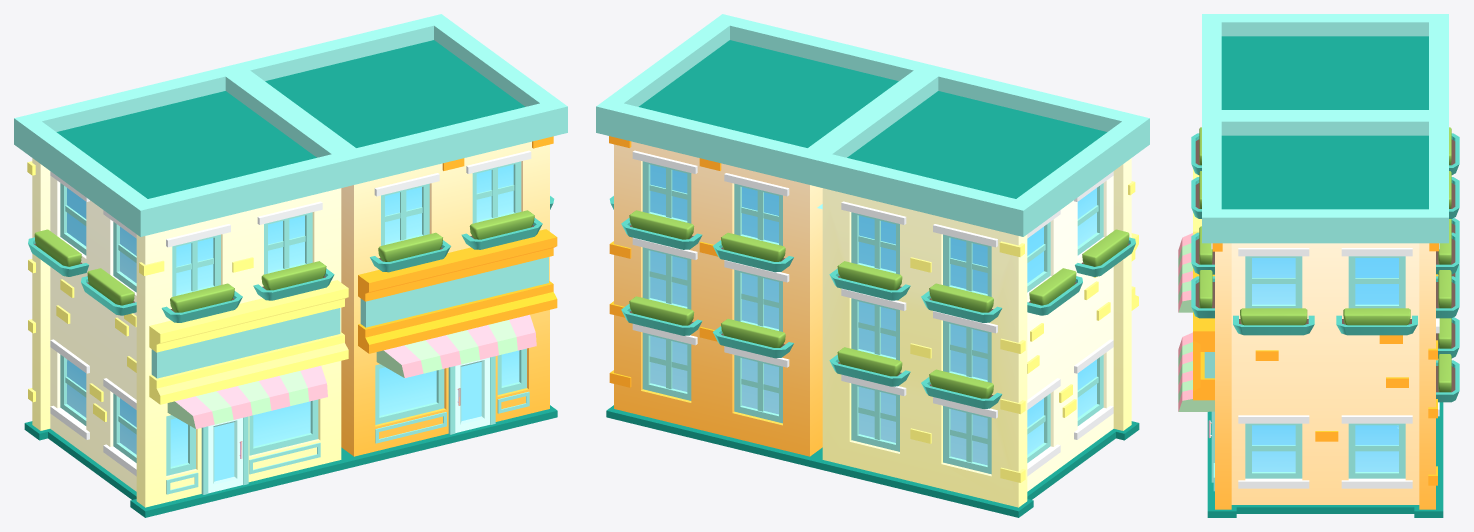
The model's file is city2-building-living-27.glb.
The picture shows the model from 3 angles, left to right: view 1: azimuth 30°, elevation 25°; view 2: azimuth 150°, elevation 25°; view 3: azimuth 270°, elevation 25°; orthographic projection. The views are drawn at different scales.
Parts seen in each view (by area): view 1: Building_Living_27; view 2: Building_Living_27; view 3: Building_Living_27.
Part boxes in pixels (x1,y1,x2,y2): Building_Living_27: (14, 14, 567, 517); Building_Living_27: (596, 14, 1149, 517); Building_Living_27: (1178, 14, 1459, 517).
Size of the model in its own units: 13.81 by 9.32 by 7.81.
Materials: 1 (1 with a texture image).
